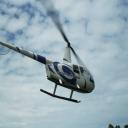helicopter: (3, 1, 96, 104)
